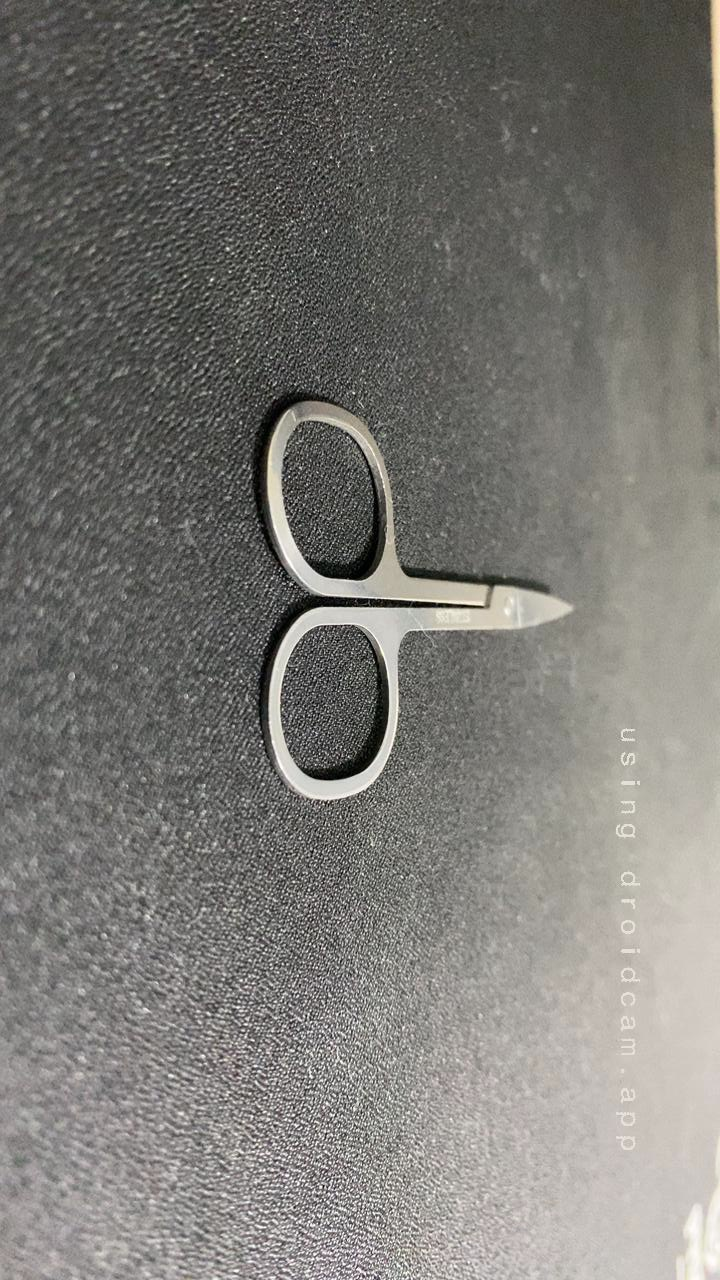scissor: (203, 377, 419, 604)
